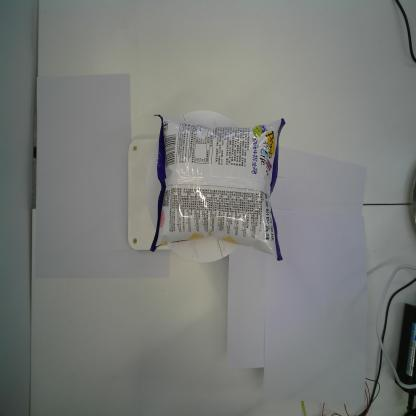Puffed Food: (147, 113, 287, 264)
